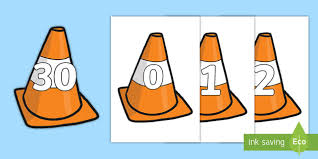cones: (17, 23, 95, 125), (120, 33, 192, 122)
